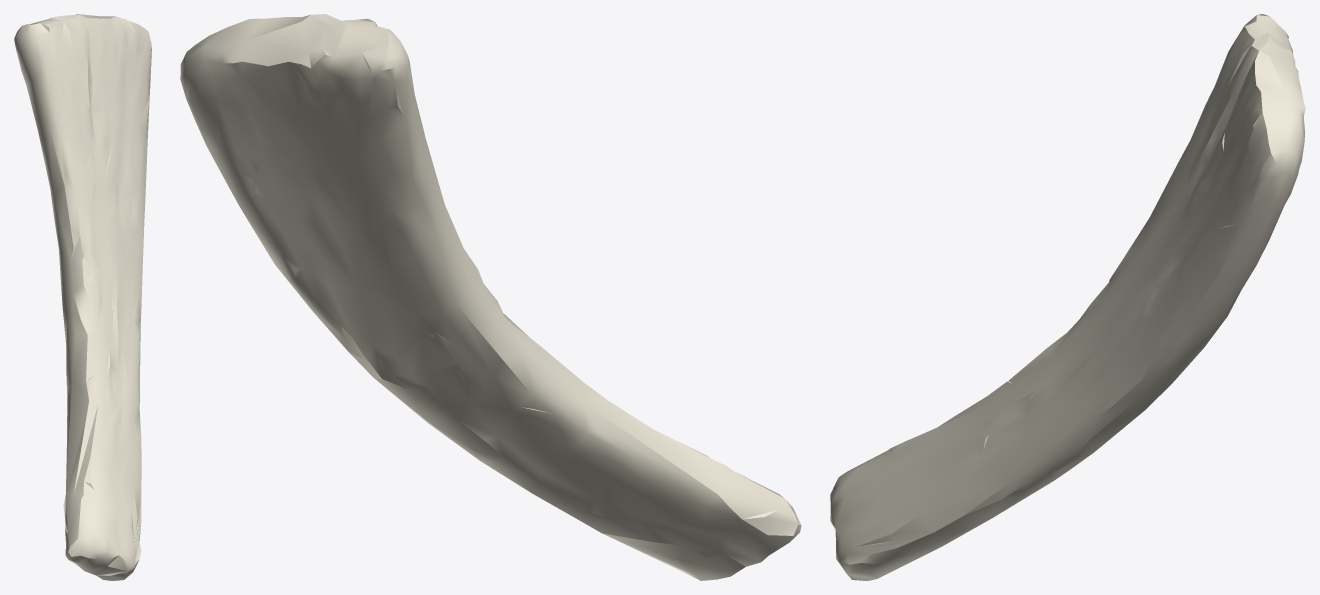
Rendered from fma44068_mm1363m.glb.
3 renders of one model, left to right at view 1: azimuth 30°, elevation 25°; view 2: azimuth 150°, elevation 25°; view 3: azimuth 270°, elevation 25°, orthographic. The views are drawn at different scales.
Parts seen in each view (by area): view 1: FMA44068_MM1363M; view 2: FMA44068_MM1363M; view 3: FMA44068_MM1363M.
Part boxes in pixels (x1=…): FMA44068_MM1363M: x1=14, y1=14, x2=151, y2=580; FMA44068_MM1363M: x1=180, y1=14, x2=801, y2=580; FMA44068_MM1363M: x1=830, y1=14, x2=1305, y2=580.
Size of the model in its own units: 0.013 by 0.0231 by 0.0165.
